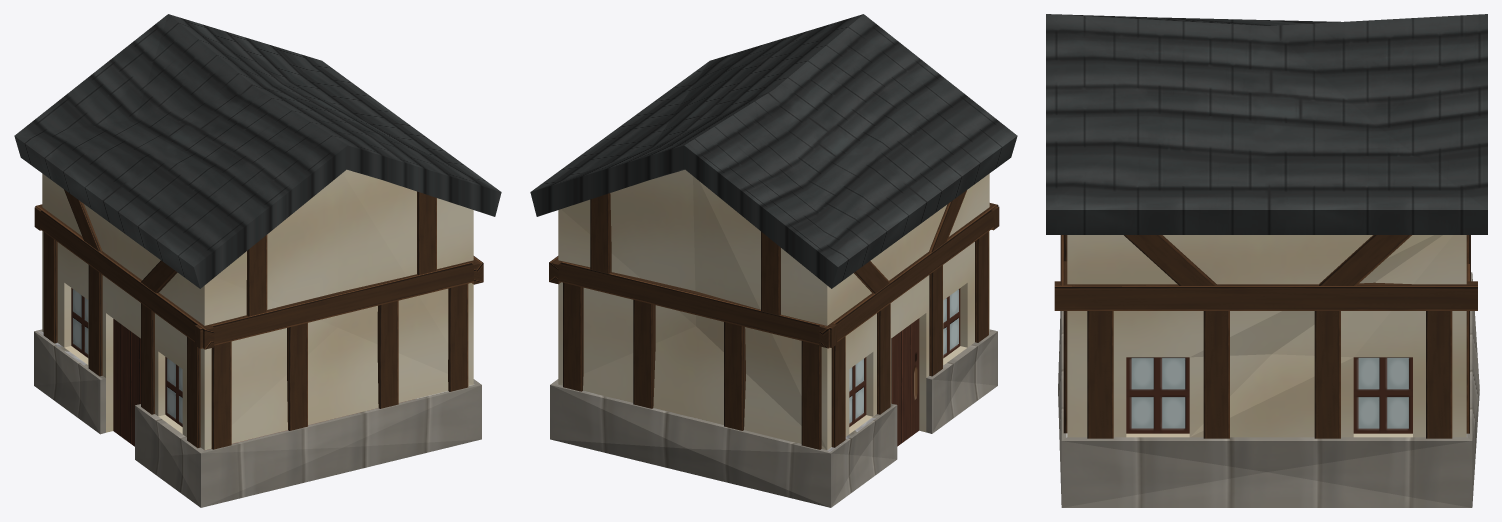
Rendered from co_Building01.fbx.
3 renders of one model, left to right at view 1: azimuth 30°, elevation 25°; view 2: azimuth 150°, elevation 25°; view 3: azimuth 270°, elevation 25°, orthographic. The views are drawn at different scales.
Parts seen in each view (by area): view 1: Building01; view 2: Building01; view 3: Building01.
Part boxes in pixels (box(x1,y1,x2,y2)): Building01: box(14, 14, 501, 507); Building01: box(530, 14, 1017, 507); Building01: box(1046, 14, 1487, 507).
Bounding box in the file's own units: 2287 × 2364 × 2311.
